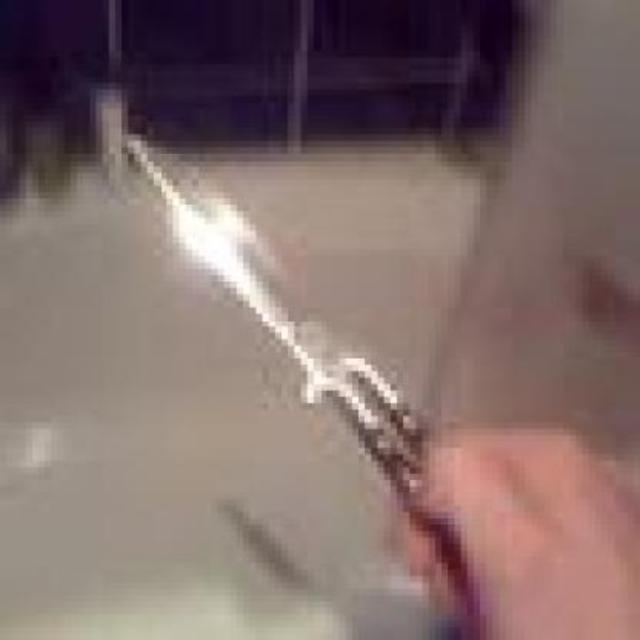Knife: (136, 142, 426, 526)
